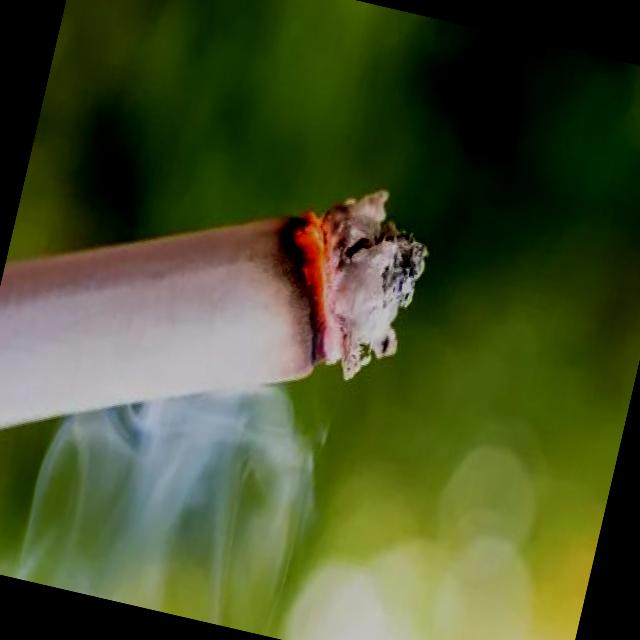cigarette: (0, 100, 447, 540)
